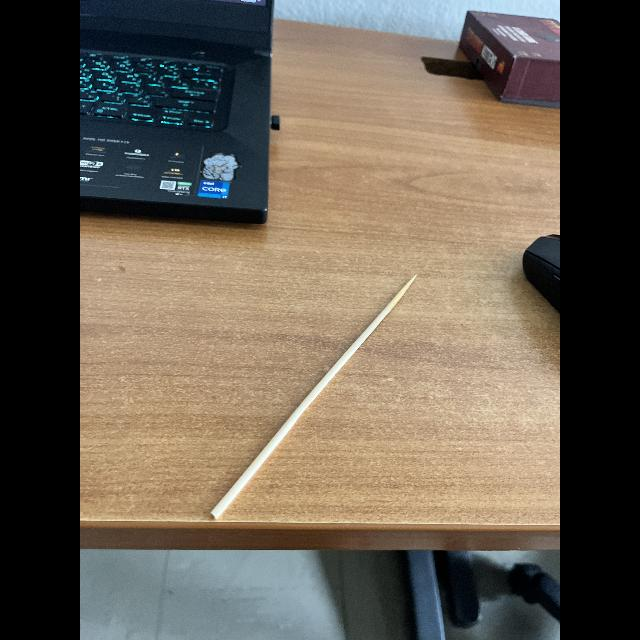stick: (192, 262, 428, 534)
